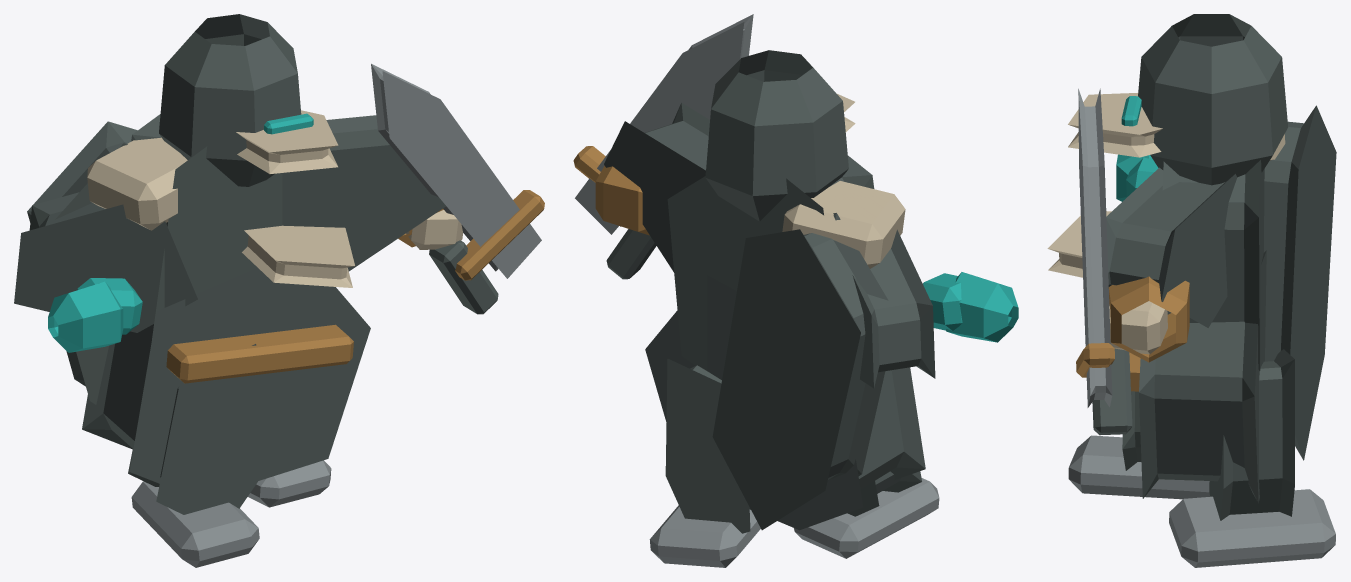
File: kiln_duelist.glb
3 renders of one model, left to right at view 1: azimuth 30°, elevation 25°; view 2: azimuth 150°, elevation 25°; view 3: azimuth 270°, elevation 25°, orthographic. The views are drawn at different scales.
Visible parts, largest first — view 1: hip_skirt, hood_crown, offhand_sleeve, weapon_sleeve, short_sword_blade, left_greave, torso_wrapped_vest, brass_belt_offset, shoulder_ceramic, ivory_chest_guard, left_foot_heel, long_coat_tail (+8 smaller); view 2: long_coat_tail, hood_crown, hip_skirt, torso_wrapped_vest, right_greave, weapon_sleeve, offhand_sleeve, short_sword_blade, shoulder_ceramic, left_foot_heel, right_foot_heel, glaze_knuckle (+5 smaller); view 3: hood_crown, hip_skirt, long_coat_tail, weapon_sleeve, right_foot_heel, right_greave, short_sword_blade, torso_wrapped_vest, left_foot_heel, weapon_brass_cuff, mask_cut_face, sword_grip (+8 smaller).
Boxes of the visible parts, bbox=[...] form: hip_skirt: bbox=[82, 268, 370, 483]; hood_crown: bbox=[159, 14, 301, 186]; offhand_sleeve: bbox=[14, 192, 197, 332]; weapon_sleeve: bbox=[282, 115, 445, 271]; short_sword_blade: bbox=[371, 63, 541, 278]; left_greave: bbox=[128, 344, 264, 514]; torso_wrapped_vest: bbox=[131, 114, 282, 338]; brass_belt_offset: bbox=[166, 324, 353, 383]; shoulder_ceramic: bbox=[87, 137, 187, 230]; ivory_chest_guard: bbox=[242, 225, 354, 287]; left_foot_heel: bbox=[131, 481, 259, 567]; long_coat_tail: bbox=[27, 121, 137, 404]; long_coat_tail: bbox=[712, 213, 888, 530]; hood_crown: bbox=[705, 50, 848, 221]; hip_skirt: bbox=[645, 275, 925, 530]; torso_wrapped_vest: bbox=[667, 155, 874, 370]; right_greave: bbox=[665, 359, 750, 533]; weapon_sleeve: bbox=[604, 102, 709, 272]; offhand_sleeve: bbox=[852, 229, 935, 388]; short_sword_blade: bbox=[575, 14, 753, 234]; shoulder_ceramic: bbox=[782, 181, 905, 268]; left_foot_heel: bbox=[794, 478, 939, 558]; right_foot_heel: bbox=[649, 505, 760, 567]; glaze_knuckle: bbox=[946, 272, 1018, 342]; hood_crown: bbox=[1138, 14, 1287, 185]; hip_skirt: bbox=[1139, 250, 1266, 502]; long_coat_tail: bbox=[1264, 105, 1336, 460]; weapon_sleeve: bbox=[1106, 167, 1237, 327]; right_foot_heel: bbox=[1169, 489, 1335, 567]; right_greave: bbox=[1209, 349, 1294, 520]; short_sword_blade: bbox=[1078, 88, 1112, 407]; torso_wrapped_vest: bbox=[1162, 160, 1264, 371]; left_foot_heel: bbox=[1068, 435, 1209, 499]; weapon_brass_cuff: bbox=[1108, 276, 1189, 362]; mask_cut_face: bbox=[1068, 93, 1162, 157]; sword_grip: bbox=[1092, 348, 1132, 435].
Bounding box in the file's own units: 1.78 × 1.75 × 0.9215.
